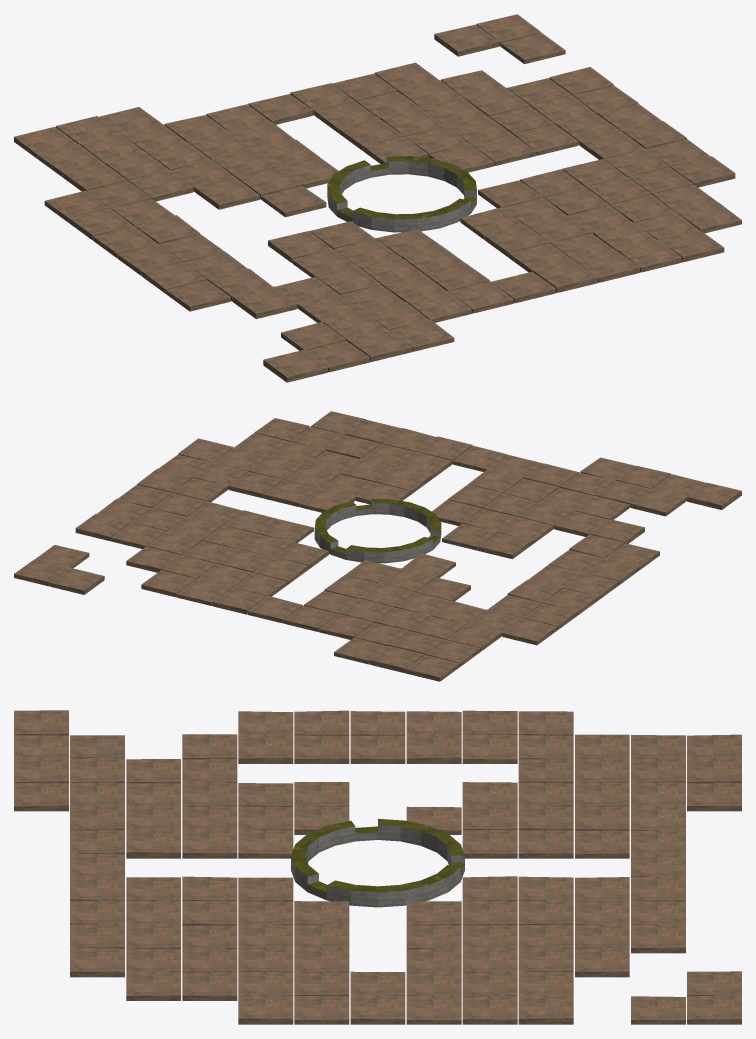
The model's file is plaza.gltf.
The picture shows the model from 3 angles, top to bottom: view 1: azimuth 30°, elevation 25°; view 2: azimuth 150°, elevation 25°; view 3: azimuth 270°, elevation 25°; orthographic projection. The views are drawn at different scales.
Visible parts, largest first — view 1: plaza; view 2: plaza; view 3: plaza.
Boxes of the visible parts, bbox=[...] form: plaza: bbox=[14, 14, 741, 382]; plaza: bbox=[14, 411, 741, 681]; plaza: bbox=[14, 710, 741, 1024].
Bounding box in the file's own units: 25.96 × 0.6 × 25.96.
